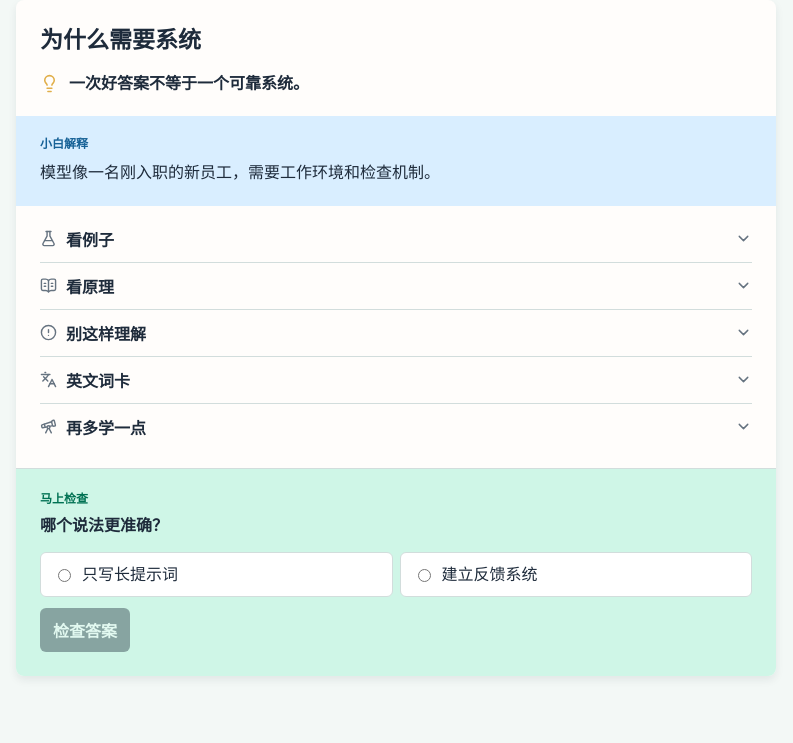
LearningUnitCard › shows beginner content first and reveals the complete principle on demand
Expected: the text "模型像一名刚入职的新员工，需要工作环境和检查机制。" is shown, [40,164,440,181]
Expected: the text "反馈、测试和权限共同决定系统能否长期运行。" is not shown
Step 1. Click the button "看原理" → (90, 287), box [40,263,752,309]
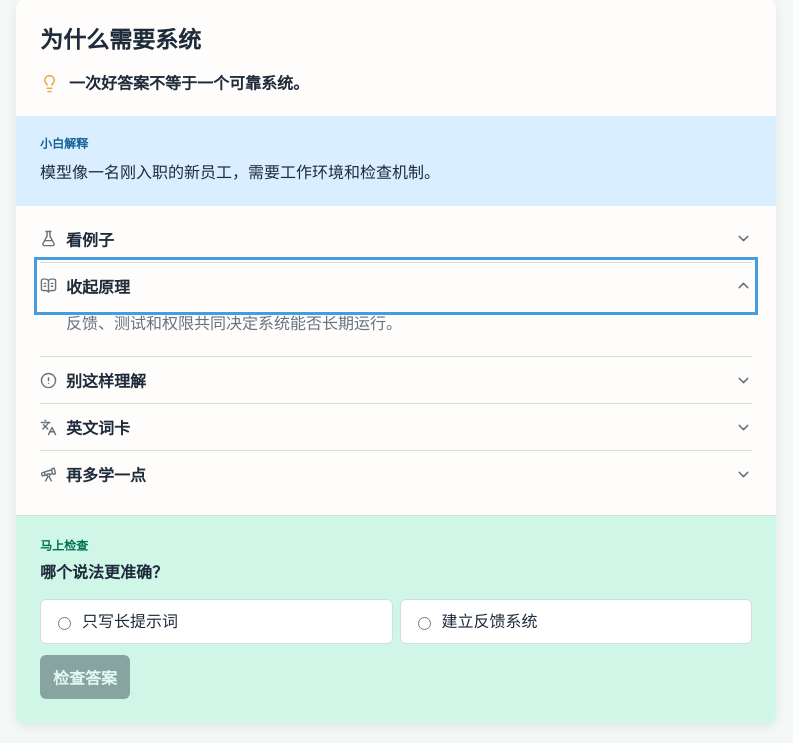
Now the text "反馈、测试和权限共同决定系统能否长期运行。" is shown, box [66,315,402,332]
Now the button "收起原理" is expanded, box [40,263,752,309]
